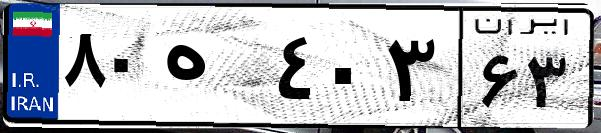0: (330, 28, 385, 110), (110, 28, 158, 98)
3: (385, 28, 445, 110), (525, 38, 570, 115)
4: (270, 28, 330, 110)
6: (475, 38, 525, 113)
8: (57, 26, 110, 100)
ه: (158, 20, 270, 120)
